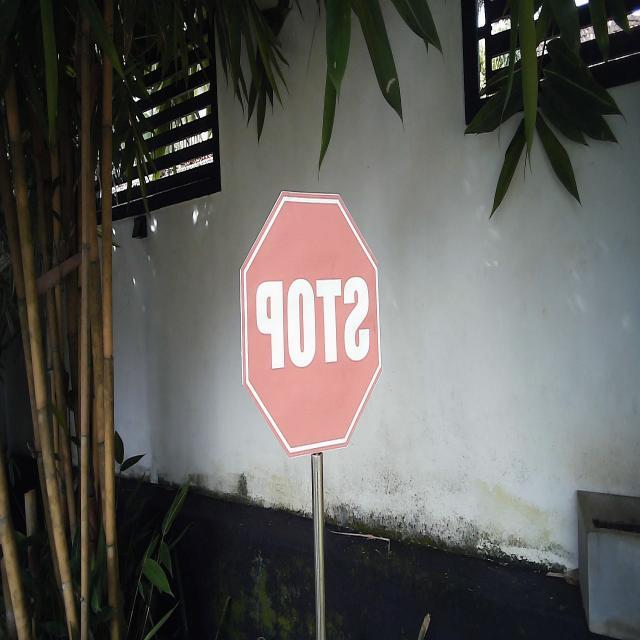stop: (238, 186, 384, 462)
